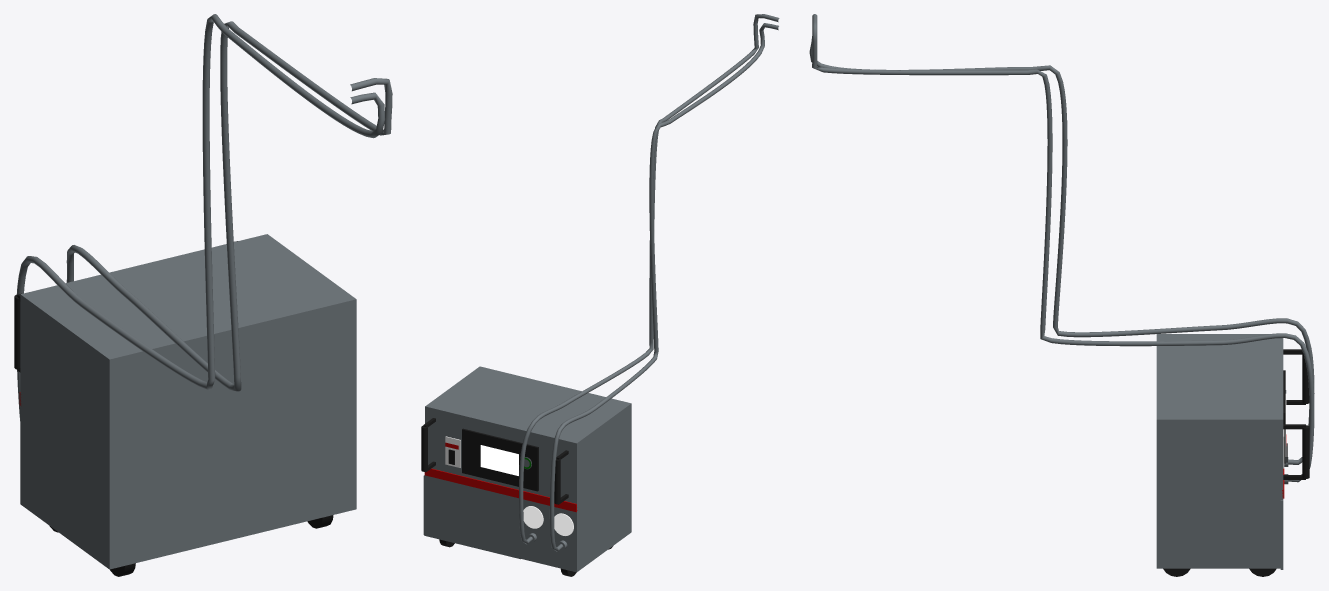
File: CompressorKTX2.glb
3 views of the same model, side by side, from view 1: azimuth 30°, elevation 25°; view 2: azimuth 150°, elevation 25°; view 3: azimuth 270°, elevation 25° (orthographic). The views are drawn at different scales.
Bounding box in the file's own units: 8.08 × 21.12 × 19.95.
